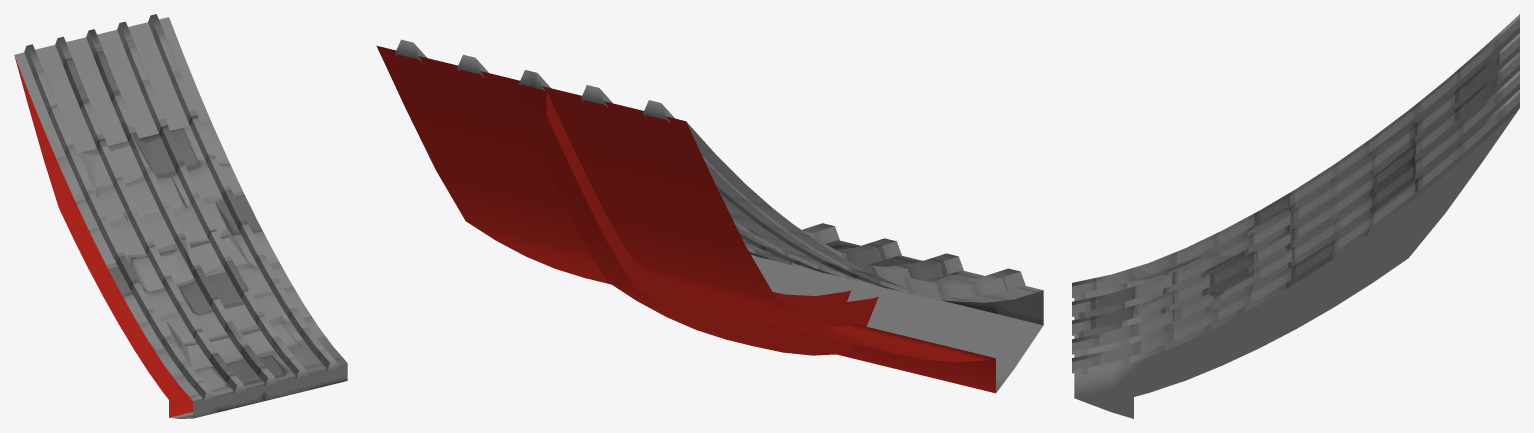
The model's file is SM_Bld_Kawara_M_Half_01.fbx.
3 renders of one model, left to right at view 1: azimuth 30°, elevation 25°; view 2: azimuth 150°, elevation 25°; view 3: azimuth 270°, elevation 25°, orthographic. The views are drawn at different scales.
Visible parts, largest first — view 1: SM_Bld_Kawara_M_Half_01; view 2: SM_Bld_Kawara_M_Half_01; view 3: SM_Bld_Kawara_M_Half_01.
Boxes of the visible parts, box(x1,y1,x2,y2) form: SM_Bld_Kawara_M_Half_01: box(14, 14, 347, 418); SM_Bld_Kawara_M_Half_01: box(376, 39, 1043, 393); SM_Bld_Kawara_M_Half_01: box(1072, 14, 1519, 418).
Bounding box in the file's own units: 2.5 × 3.94 × 5.03.
